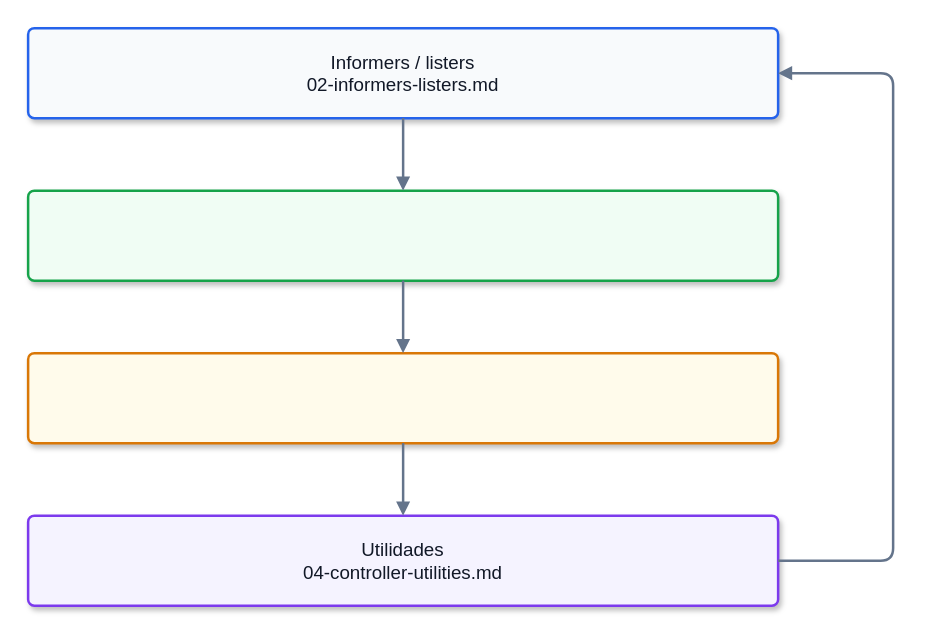
This 925x636 diagram has some shape labels left out. Each missing label, with the centre of its shape:
Reconciliación 01-reconciliation-theory.md: point 403,399
Workqueues 03-workqueues.md: point 403,237
